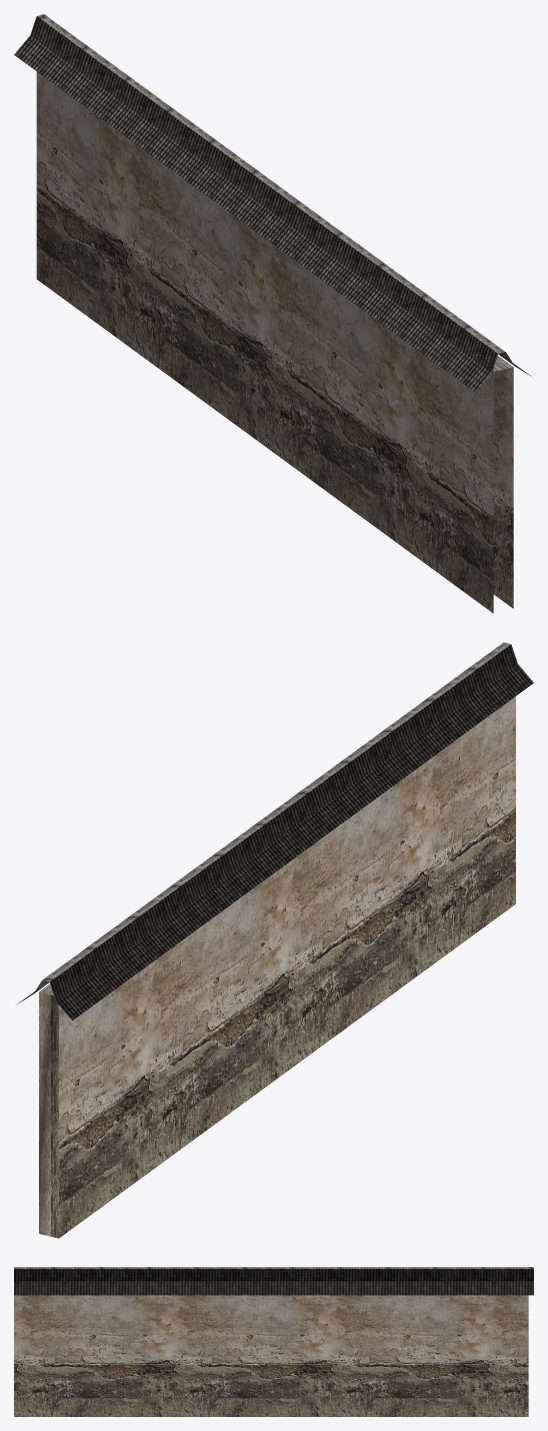
Rendered from ian1632.obj.
The picture shows the model from 3 angles, top to bottom: view 1: azimuth 30°, elevation 25°; view 2: azimuth 150°, elevation 25°; view 3: azimuth 270°, elevation 25°; orthographic projection. The views are drawn at different scales.
Parts seen in each view (by area): view 1: ian1632; view 2: ian1632; view 3: ian1632.
Boxes of the visible parts, x1,y1,x2,y2 form: ian1632: [14, 14, 531, 613]; ian1632: [15, 642, 533, 1238]; ian1632: [14, 1267, 533, 1416].
Bounding box in the file's own units: 16.49 × 69.88 × 226.
